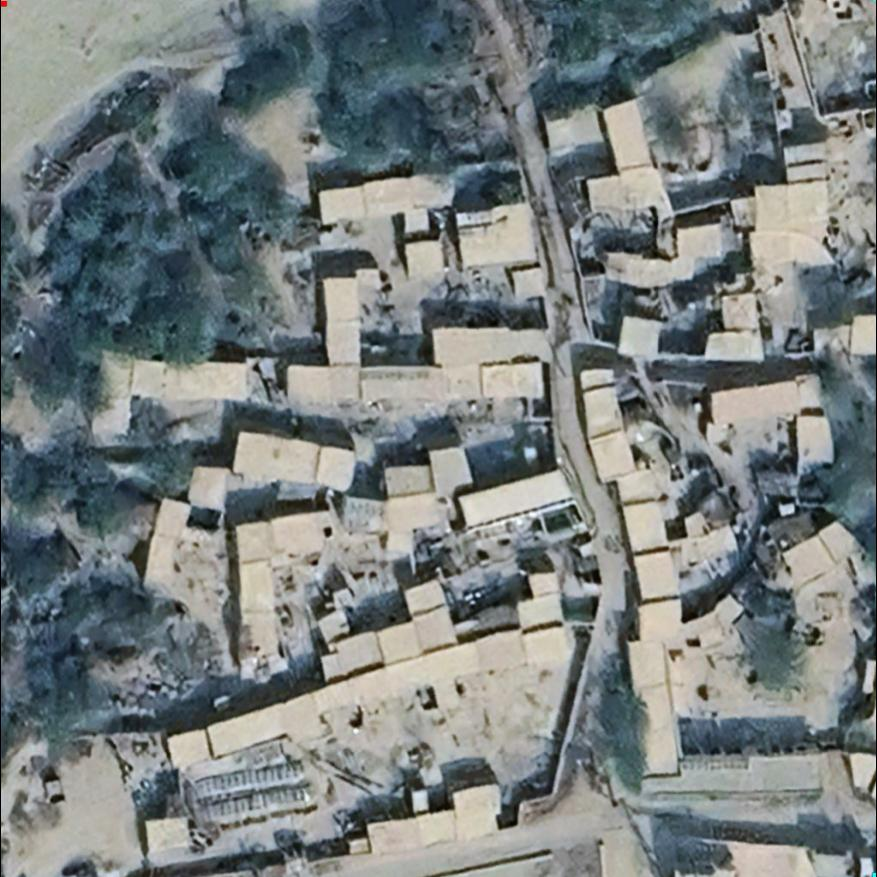Solarpanel: (191, 760, 308, 799), (201, 785, 312, 824)
